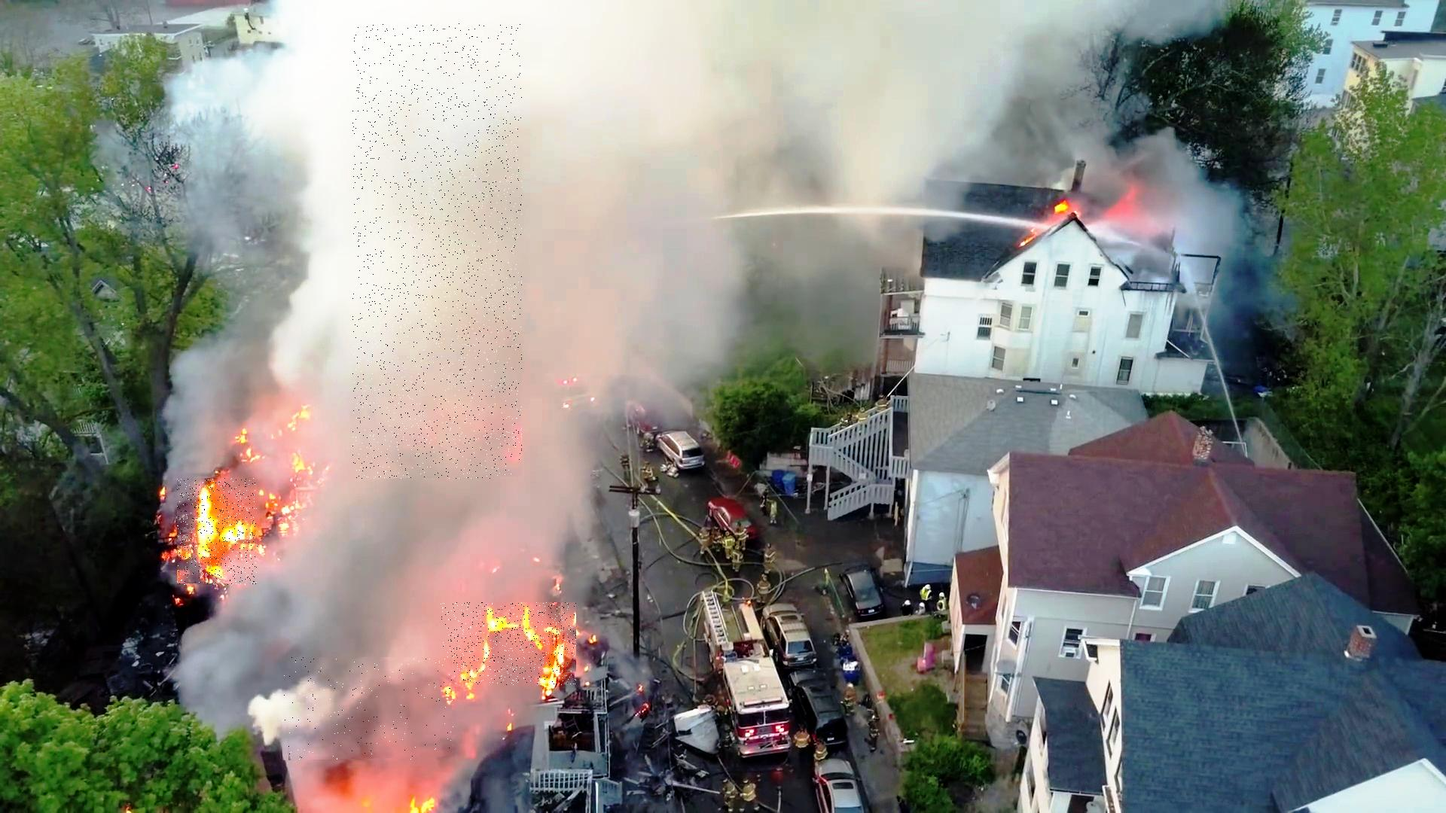fire: (441, 603, 576, 685), (178, 479, 258, 586)
smoke: (352, 23, 522, 479), (283, 657, 454, 760)
